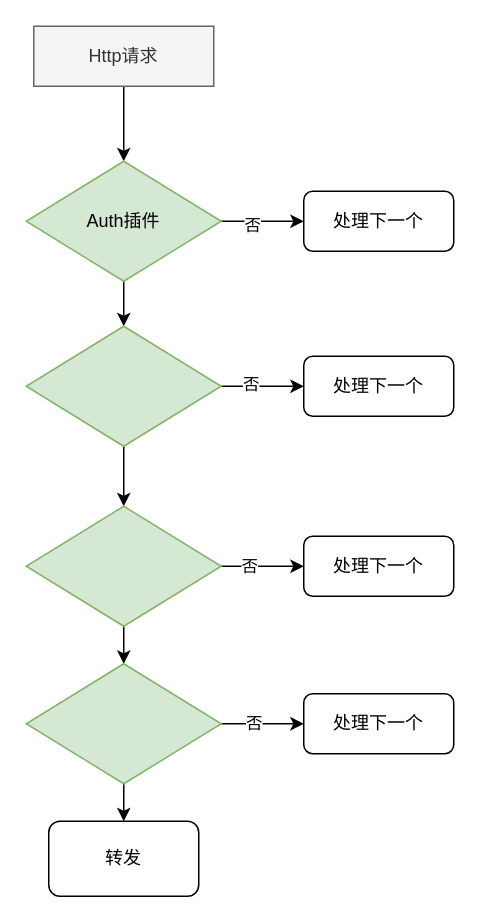
This 480x923 diagram has some shape labels left out. Here are the shapes that lost their labels. From the top down, the box of each, then its label:
(25, 325, 221, 446): 限流插件
(25, 505, 221, 626): 动态路由插件
(25, 662, 221, 784): 自定义插件
